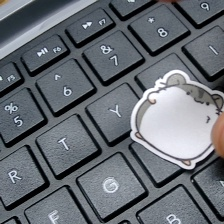mouse: (131, 63, 224, 171)
